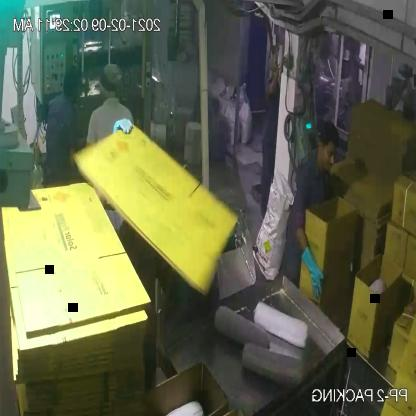glove: (294, 240, 331, 295)
no_glove: (270, 61, 288, 107)
